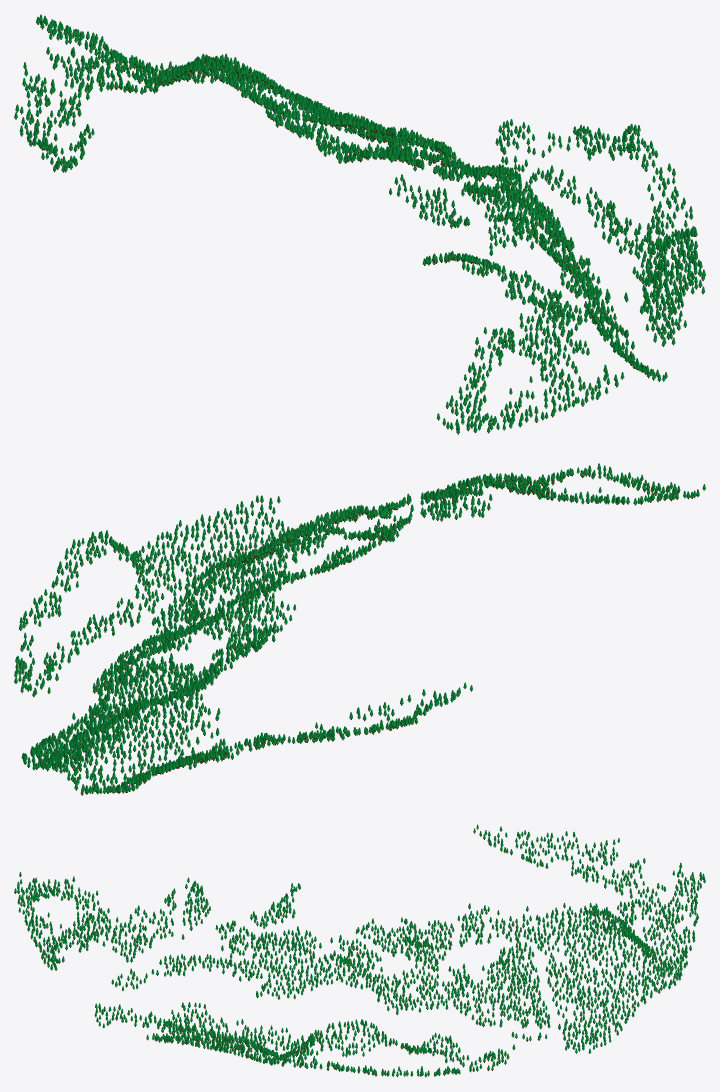
The model's file is treesCut.glb.
3 views of the same model, one above another, from view 1: azimuth 30°, elevation 25°; view 2: azimuth 150°, elevation 25°; view 3: azimuth 270°, elevation 25° (orthographic). The views are drawn at different scales.
Bounding box in the file's own units: 5215 × 1443 × 8497.
